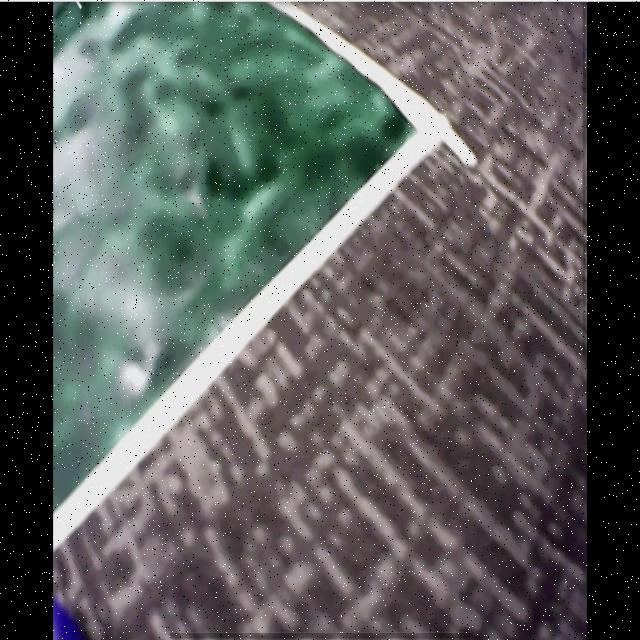ball: (54, 593, 83, 640)
